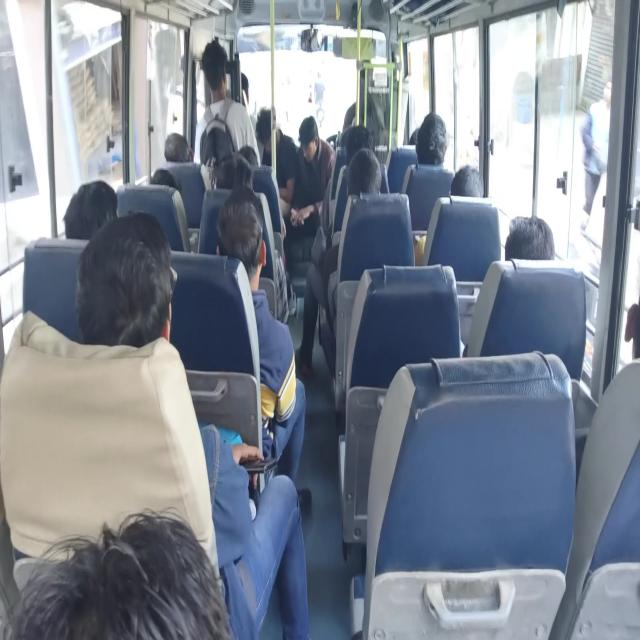person: (47, 532, 226, 640), (79, 233, 181, 333), (207, 188, 268, 256), (506, 214, 559, 278), (300, 120, 340, 198), (65, 192, 125, 234), (347, 148, 388, 207), (418, 95, 444, 179), (194, 51, 233, 105), (212, 160, 255, 201), (254, 110, 289, 158), (621, 309, 640, 389), (162, 131, 197, 166), (456, 166, 482, 207), (346, 127, 371, 165), (241, 136, 266, 172), (150, 166, 180, 188), (405, 128, 423, 152), (335, 130, 355, 150)
